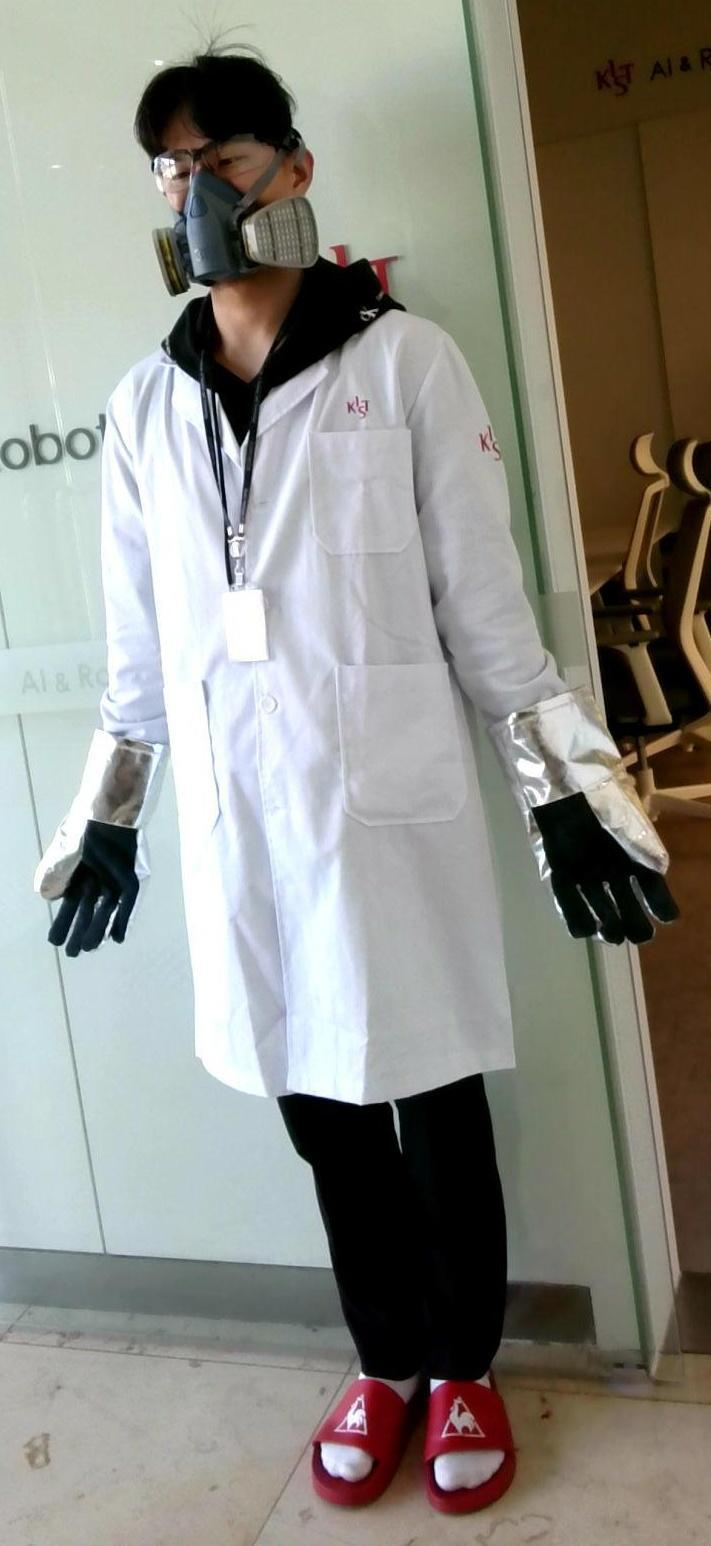lab_coat: (144, 344, 531, 1078)
